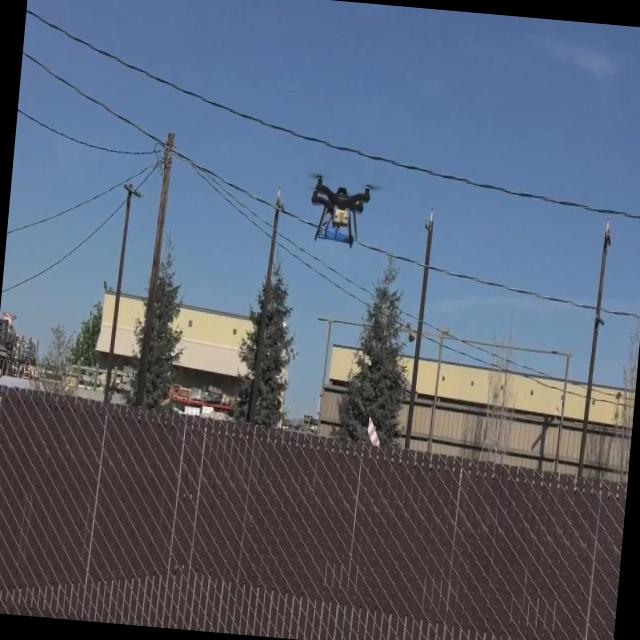drone: (306, 170, 376, 248)
